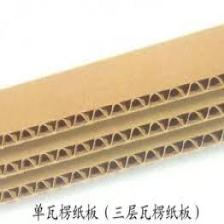cardboard: (0, 24, 224, 209)
